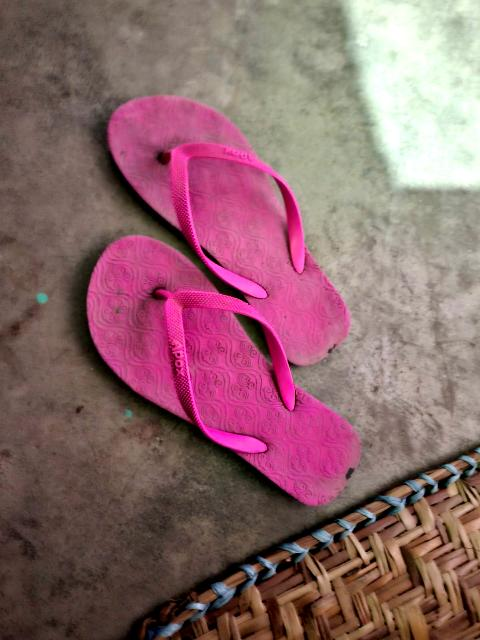sandal: (43, 226, 380, 541), (103, 64, 374, 382)
